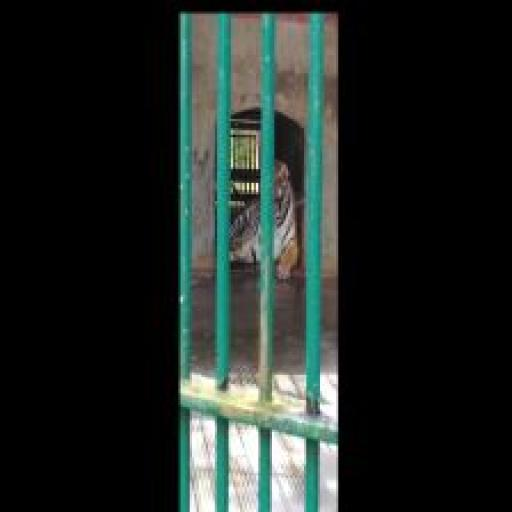Tiger: (231, 149, 304, 281)
